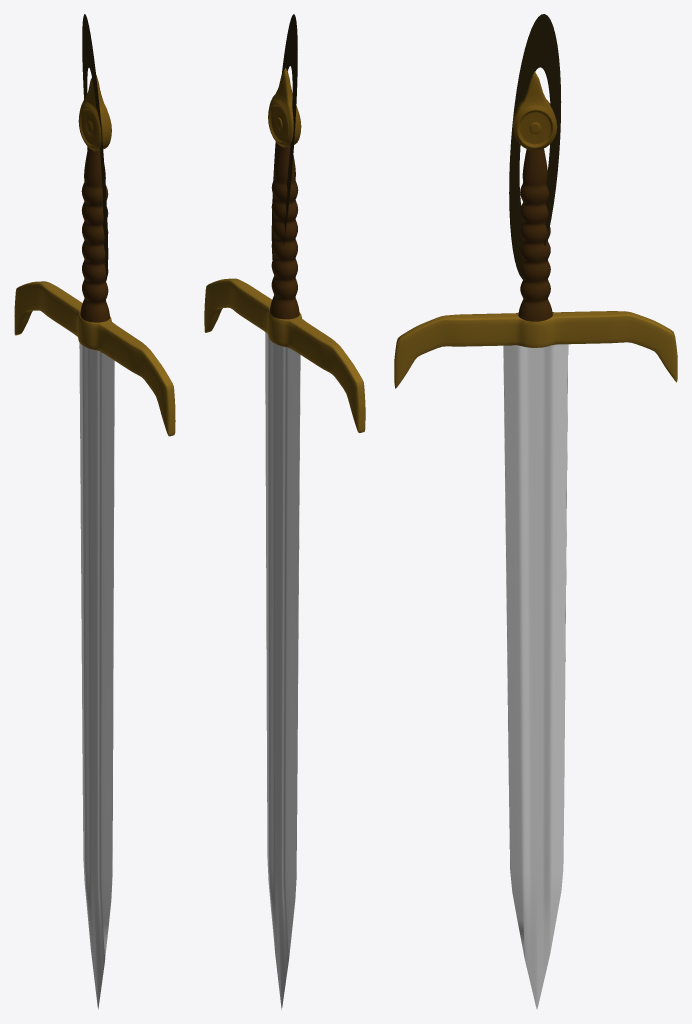
Rendered from Sword for Unity Atempt 3.fbx.
The picture shows the model from 3 angles, left to right: view 1: azimuth 30°, elevation 25°; view 2: azimuth 210°, elevation 25°; view 3: azimuth 270°, elevation 25°; orthographic projection.
Parts seen in each view (by area): view 1: Blade, PommelB; view 2: Blade, PommelB; view 3: Blade, PommelB.
Boxes of the visible parts, bbox=[...] form: Blade: bbox=[14, 74, 175, 1009]; PommelB: bbox=[82, 14, 108, 281]; Blade: bbox=[204, 68, 365, 1009]; PommelB: bbox=[271, 14, 297, 259]; Blade: bbox=[394, 71, 677, 1009]; PommelB: bbox=[509, 14, 561, 280].
Bounding box in the file's own units: 13.64 × 488 × 126.
